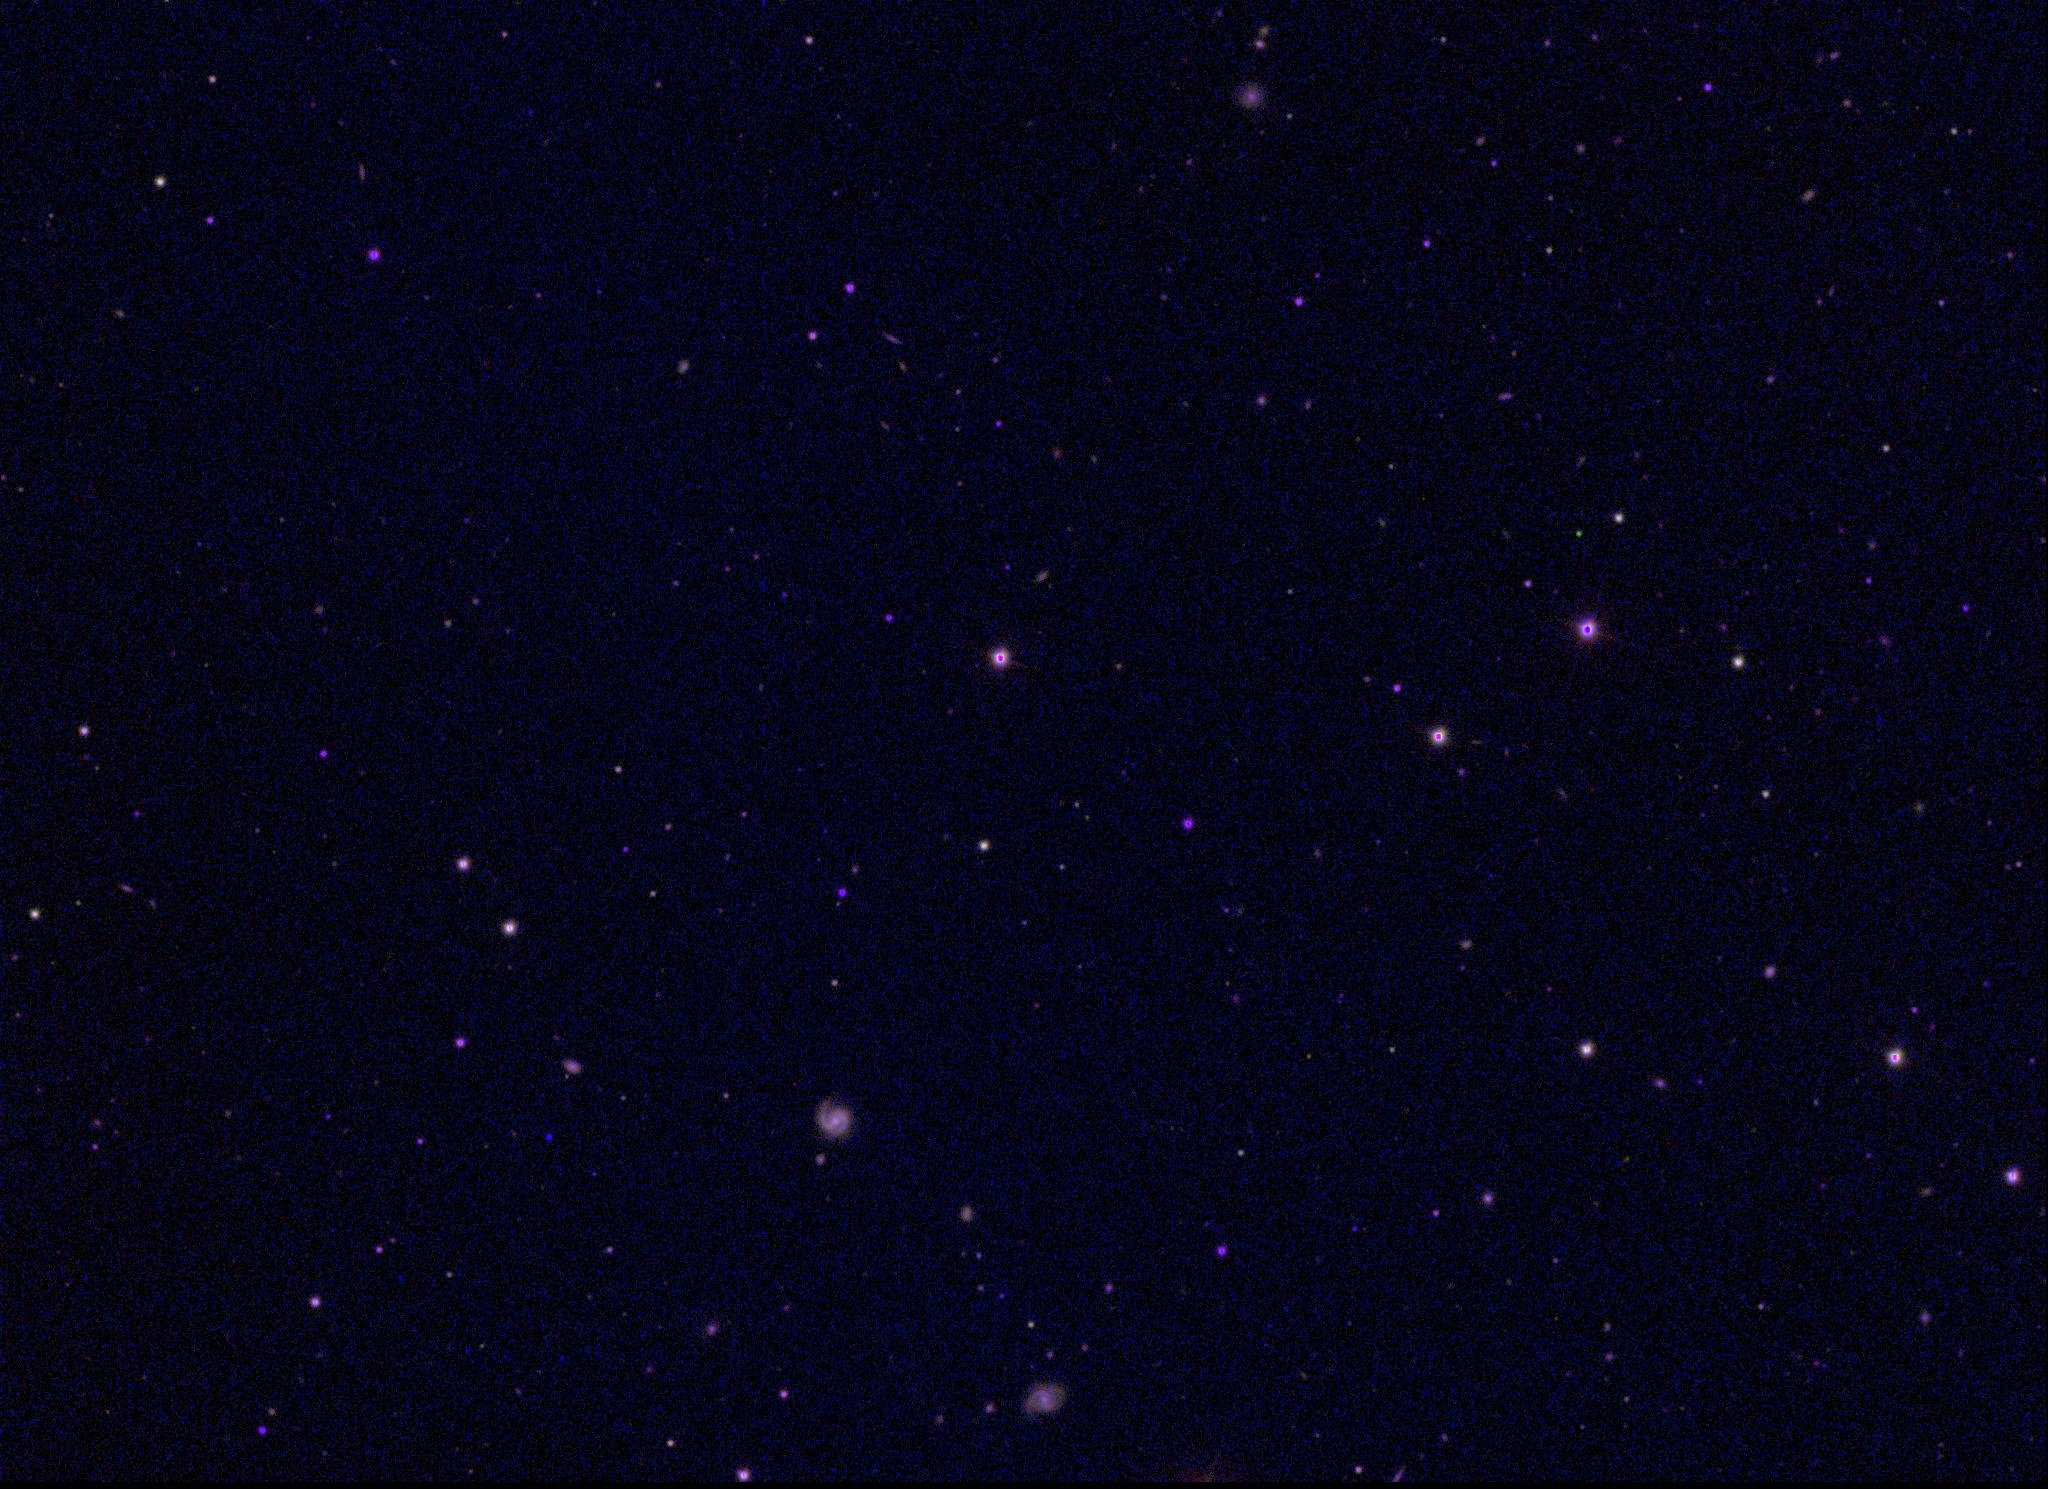L: (541, 1128, 555, 1142)
